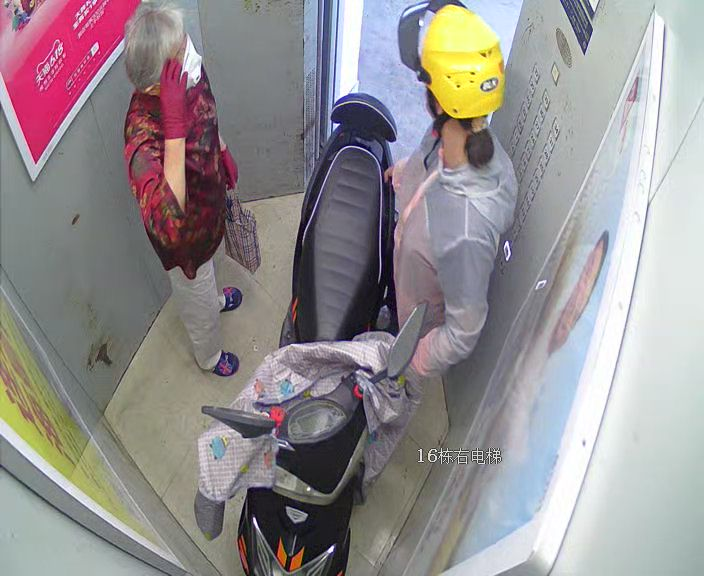Electric-bicycle: (201, 92, 427, 575)
